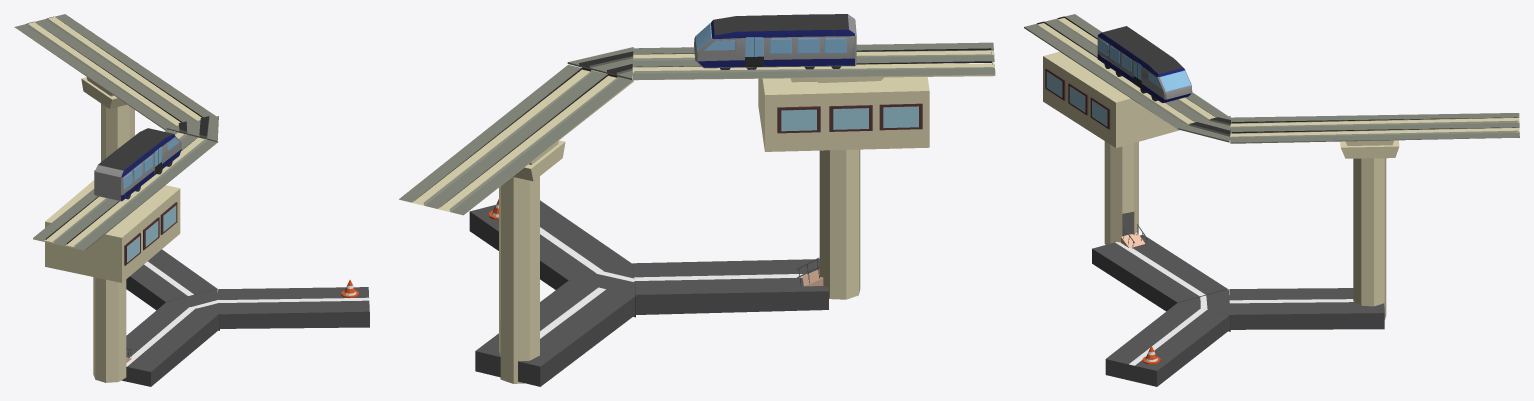
The model's file is 8nov metro and road.fbx.
3 renders of one model, left to right at view 1: azimuth 30°, elevation 25°; view 2: azimuth 150°, elevation 25°; view 3: azimuth 270°, elevation 25°, orthographic. The views are drawn at different scales.
Visible parts, largest first — view 1: Metro Station, pillar 1, ROAD2, ROAD1, Main metro.001, ROAD3, triangular track, TRIANGULAR.001; view 2: Metro Station, pillar 1, ROAD1, Main metro.001, ROAD3, ROAD2, triangular track, TRIANGULAR.001; view 3: Metro Station, pillar 1, ROAD3, ROAD2, ROAD1, Main metro.001, triangular track, TRIANGULAR.001.
Part boxes in pixels (left/top/right/bottom): Metro Station: left=33, top=130, right=218, bottom=382; pillar 1: left=14, top=14, right=215, bottom=161; ROAD2: left=218, top=287, right=369, bottom=328; ROAD1: left=121, top=302, right=219, bottom=386; Main metro.001: left=94, top=128, right=181, bottom=201; ROAD3: left=126, top=249, right=217, bottom=310; triangular track: left=166, top=116, right=218, bottom=142; TRIANGULAR.001: left=167, top=289, right=219, bottom=314; Metro Station: left=632, top=42, right=995, bottom=299; pillar 1: left=399, top=65, right=633, bottom=383; ROAD1: left=632, top=259, right=828, bottom=314; Main metro.001: left=694, top=14, right=856, bottom=69; ROAD3: left=475, top=280, right=635, bottom=386; ROAD2: left=469, top=200, right=631, bottom=289; triangular track: left=567, top=47, right=633, bottom=79; TRIANGULAR.001: left=570, top=264, right=635, bottom=316; Metro Station: left=1024, top=14, right=1228, bottom=248; pillar 1: left=1230, top=113, right=1519, bottom=319; ROAD3: left=1229, top=288, right=1384, bottom=329; ROAD2: left=1105, top=303, right=1229, bottom=386; ROAD1: left=1092, top=234, right=1227, bottom=311; Main metro.001: left=1097, top=26, right=1192, bottom=103; triangular track: left=1178, top=116, right=1230, bottom=142; TRIANGULAR.001: left=1177, top=289, right=1229, bottom=314.
Bounding box in the file's own units: 234 × 131 × 265.
